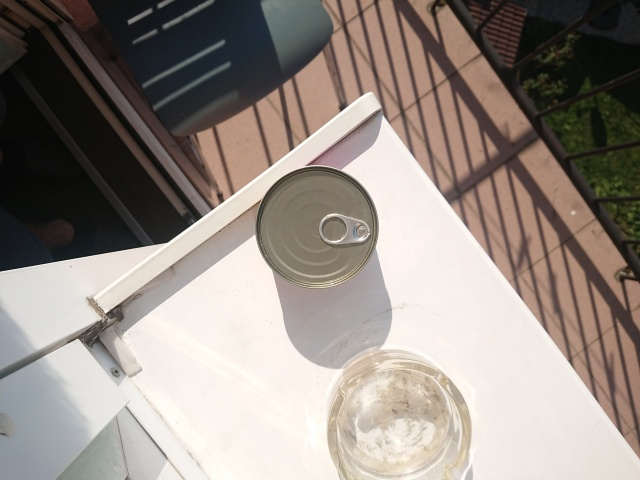Giana Tuna Salad Mexico 185g: (254, 162, 381, 292)
